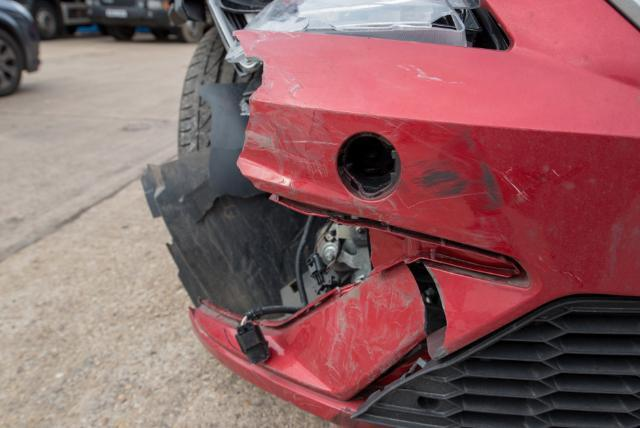Bumper: (151, 34, 640, 428)
Light: (232, 0, 518, 50)
